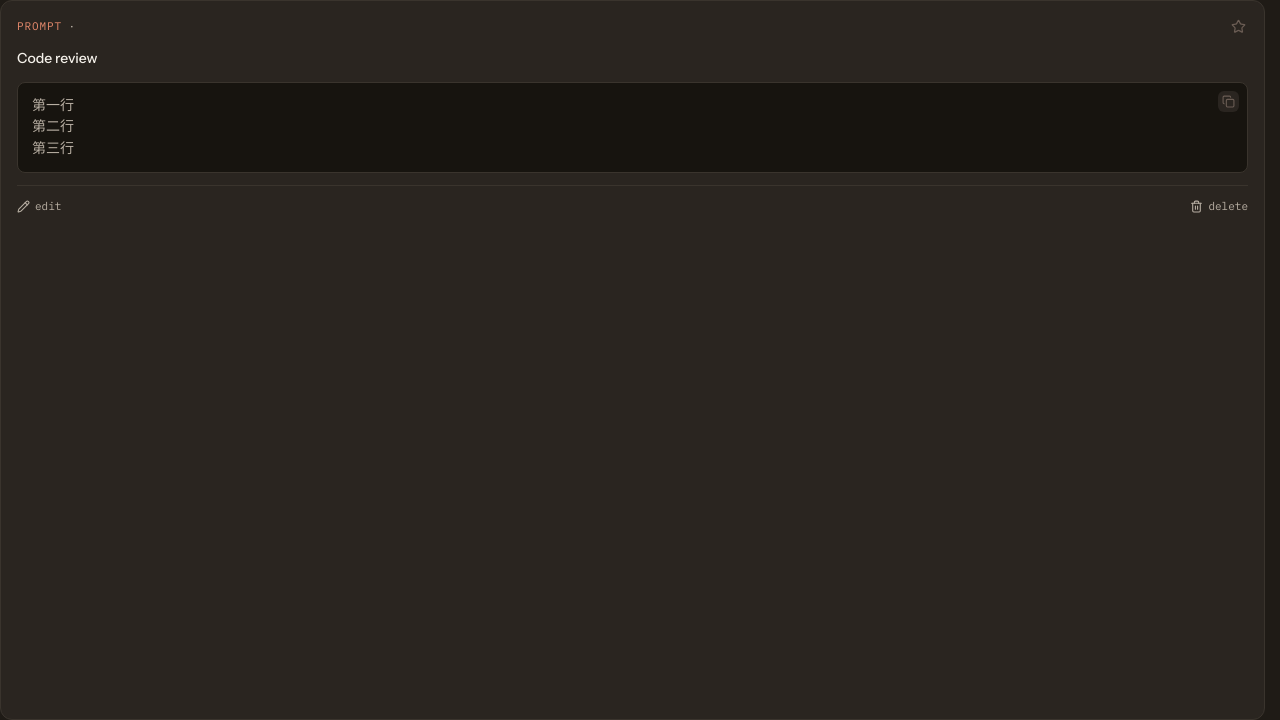
Test: ItemCard › 复制失败时弹「复制失败」提示而非成功
This screenshot has width=1280, height=720.
Click the button named "复制内容" at (1228, 101), box [1218, 91, 1239, 112]
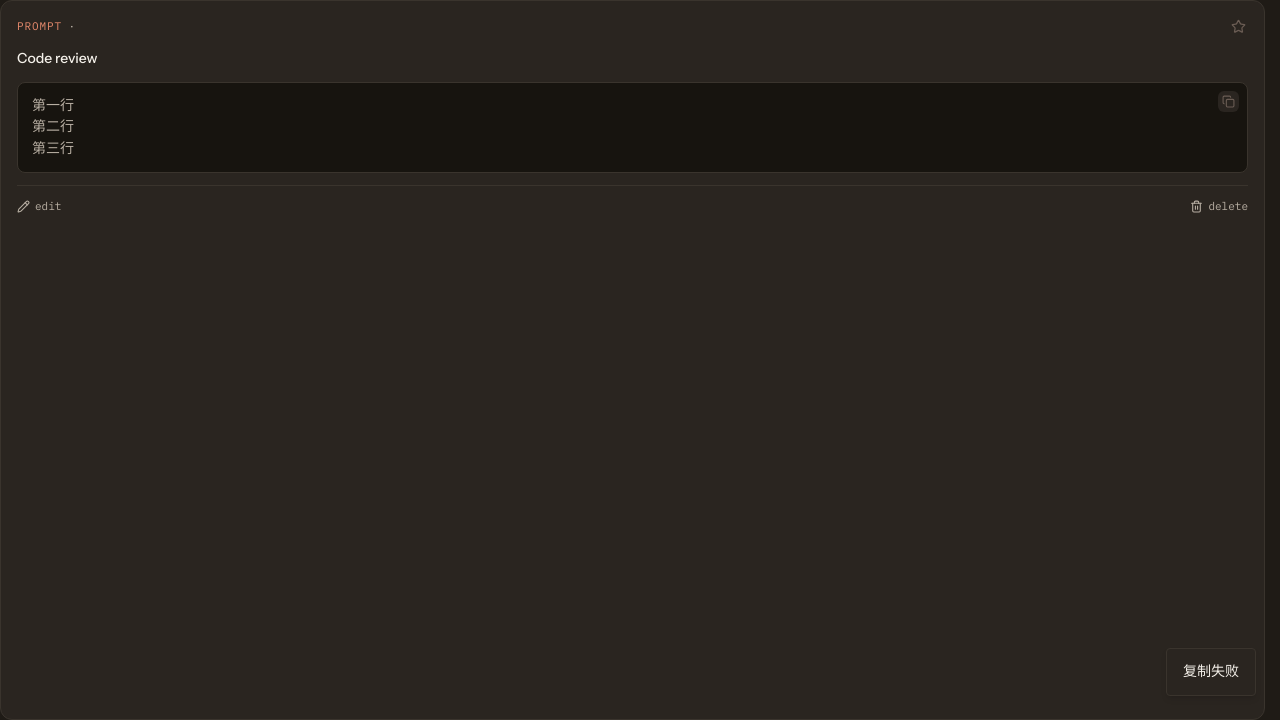
Expected: the text "复制失败" is shown, [1183, 661, 1239, 683]
